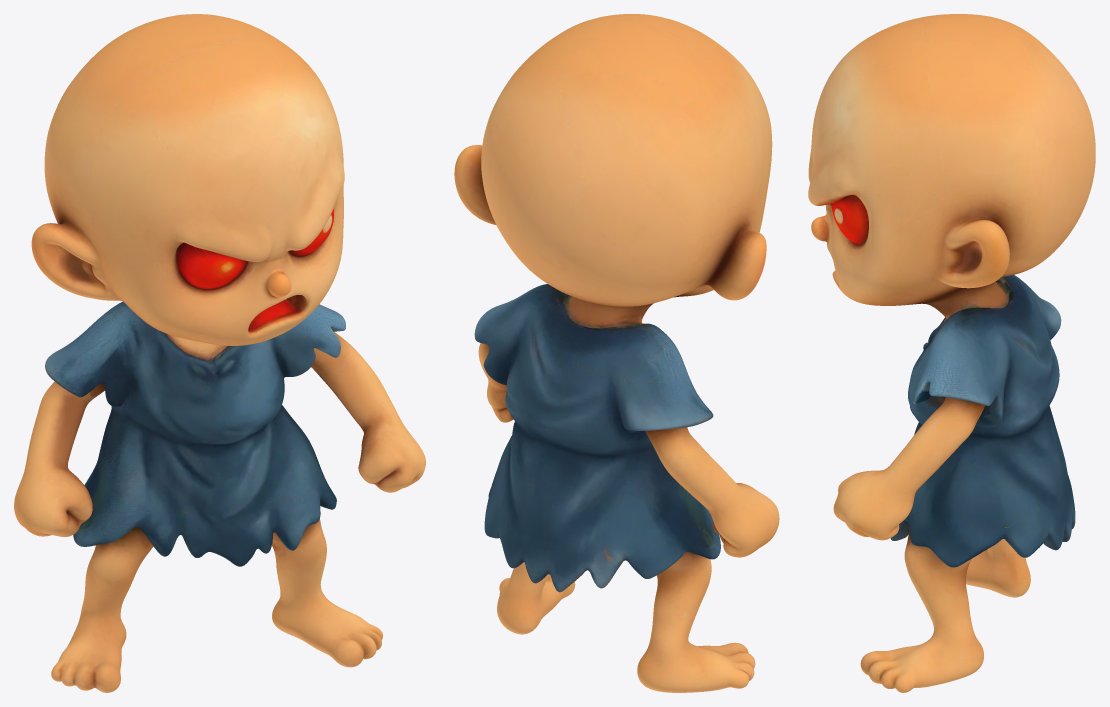
The model's file is 3d_minyar.glb.
The picture shows the model from 3 angles, left to right: view 1: azimuth 30°, elevation 25°; view 2: azimuth 150°, elevation 25°; view 3: azimuth 270°, elevation 25°; orthographic projection. The views are drawn at different scales.
Size of the model in its own units: 1.08 by 1.9 by 0.8325.
Materials: 1 (1 with a texture image).
